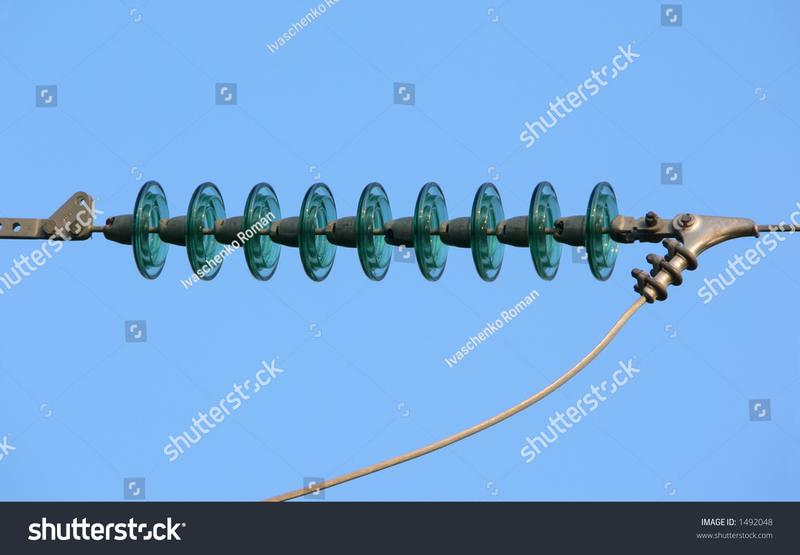isolator: (131, 177, 621, 284)
